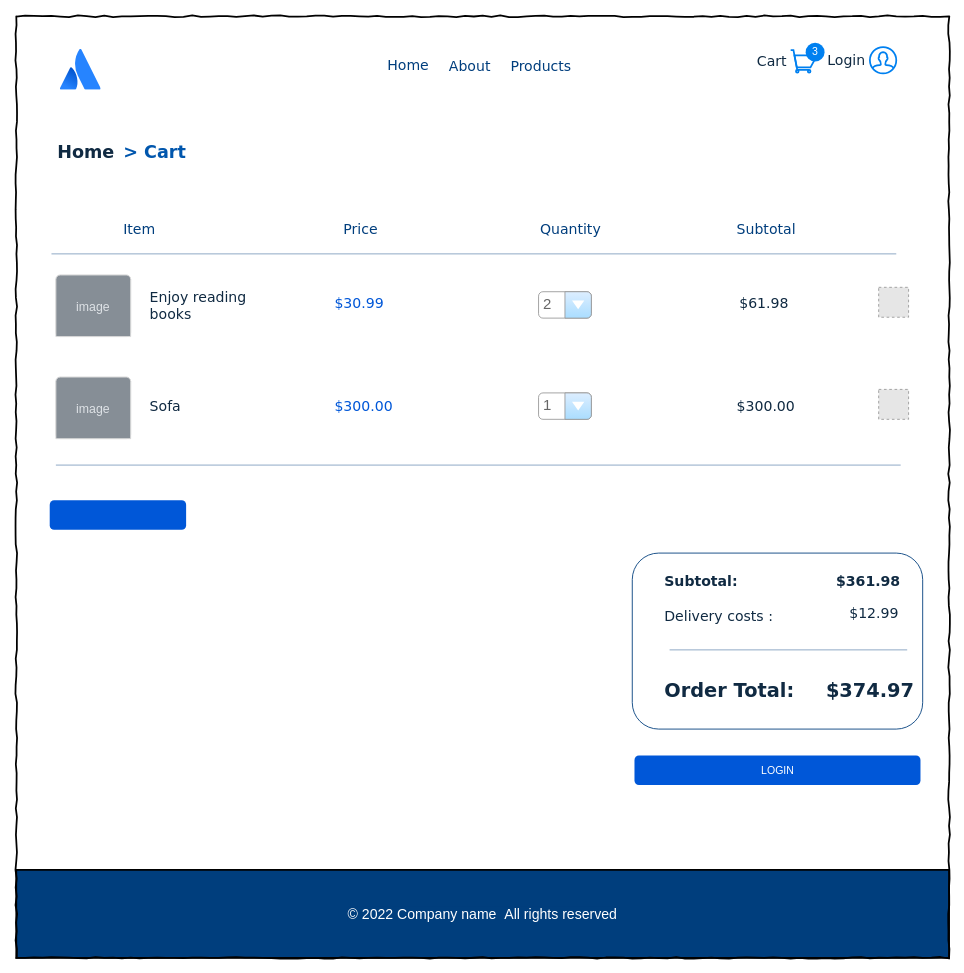
This 964x973 diagram has some shape labels left out. Grey dashed boxes stand in for pictures. Here are the shapes that lost their labels. From the top down, the centre of each, then its label:
the point at 80,69: logo
the point at 117,514: CONTINUE SHOPPING
